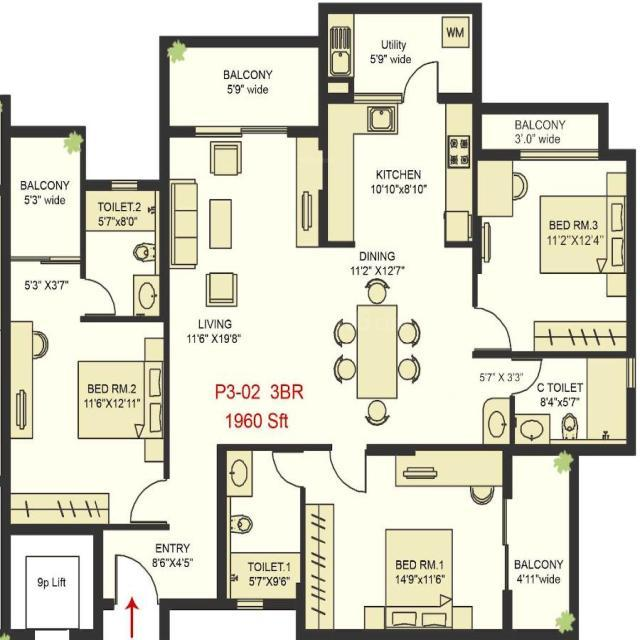Balcony-Sitout: (168, 45, 321, 128), (511, 454, 572, 632), (9, 135, 80, 259), (480, 111, 603, 152)
Bedroom: (475, 158, 628, 354)
Bedroom with Toilet: (9, 184, 168, 526), (224, 447, 508, 635)
Dining: (326, 275, 423, 428)
Enterance-Foyer: (103, 525, 221, 607)
Kitchen: (326, 102, 473, 244)
Living: (169, 136, 323, 444)
Toilet: (227, 451, 299, 598), (514, 359, 625, 445), (86, 192, 159, 316)
Utility: (327, 12, 474, 99)
